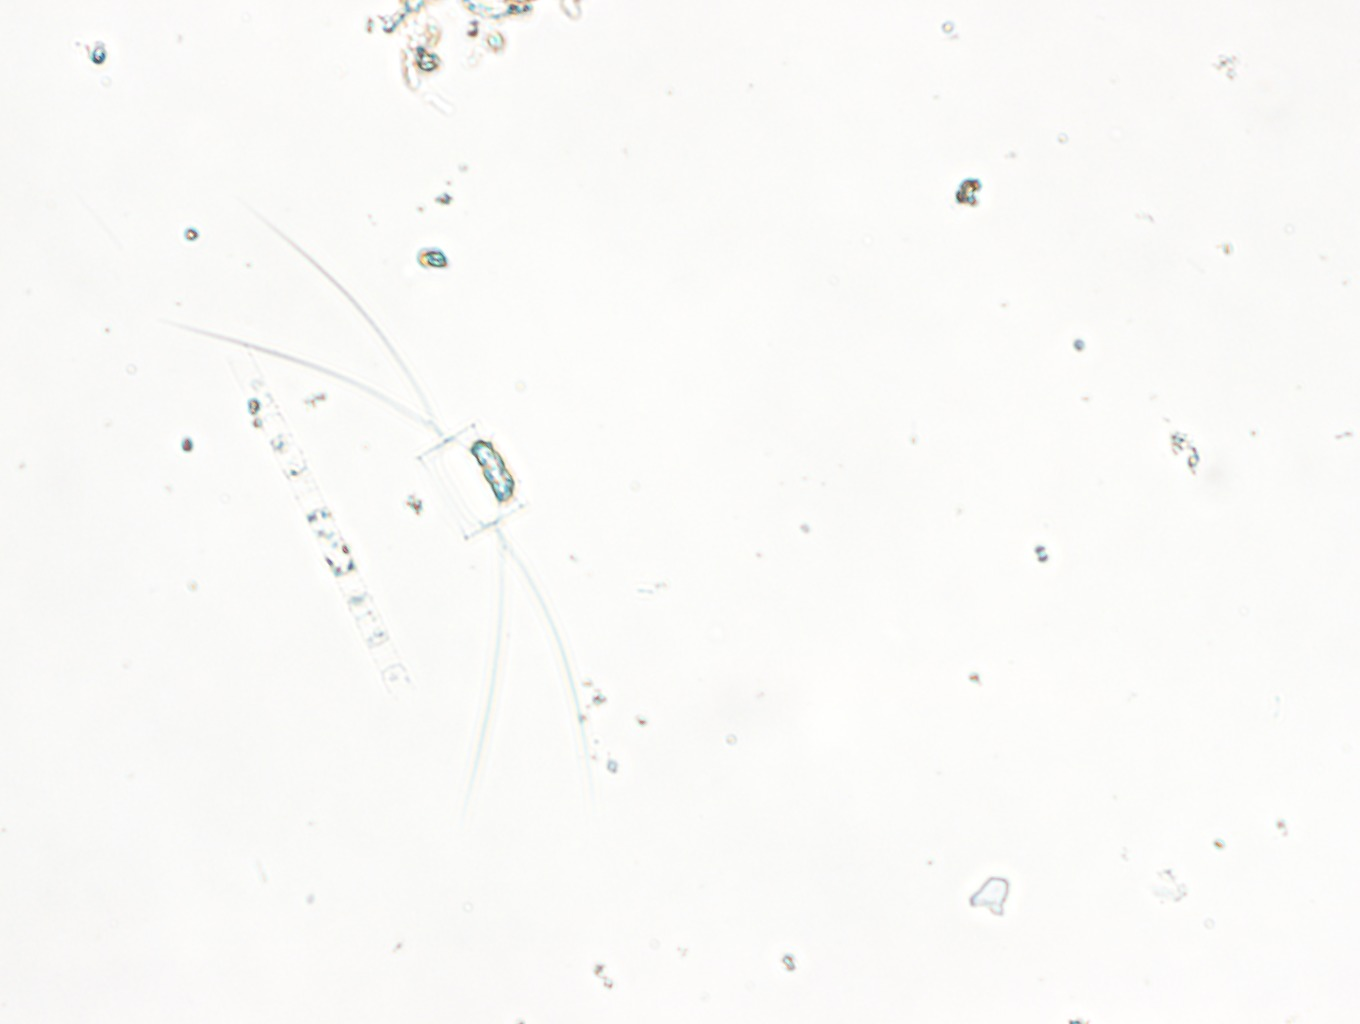chaetoceros: (155, 201, 596, 828)
skeletonema: (237, 366, 406, 696)
